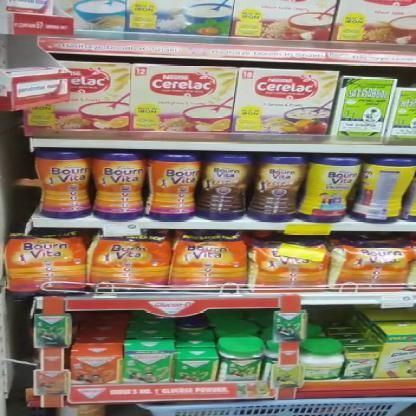Glucon D Regular 1-KG: (122, 352, 174, 384), (174, 357, 217, 383)
Glucon D Regular 2-KG: (222, 340, 266, 380)
Glucon D Tangy orange 1-KG: (68, 356, 121, 388)
